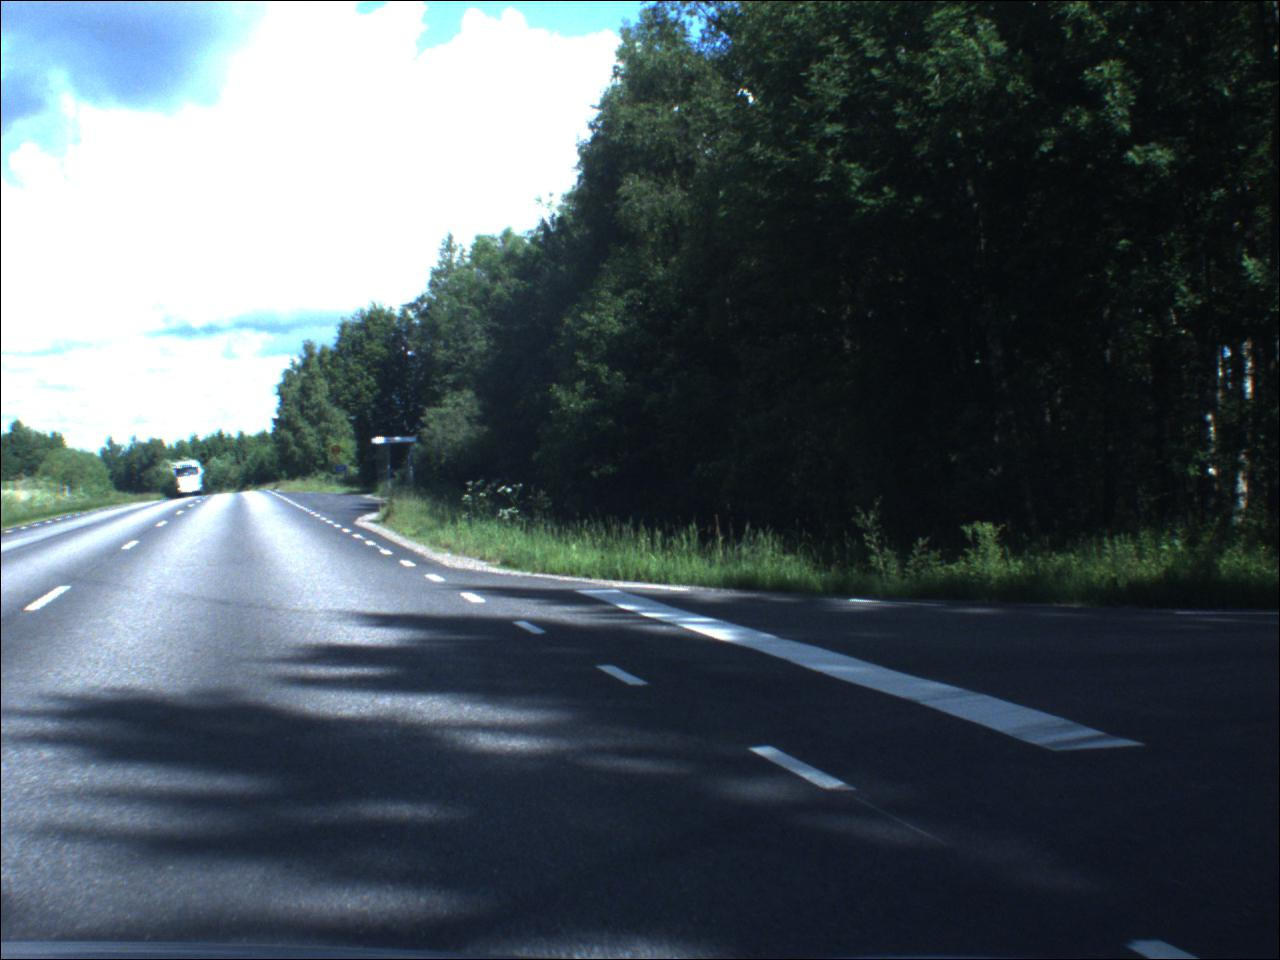80_SIGN: (333, 447, 344, 457)
PRIORITY_ROAD: (335, 458, 343, 466)
